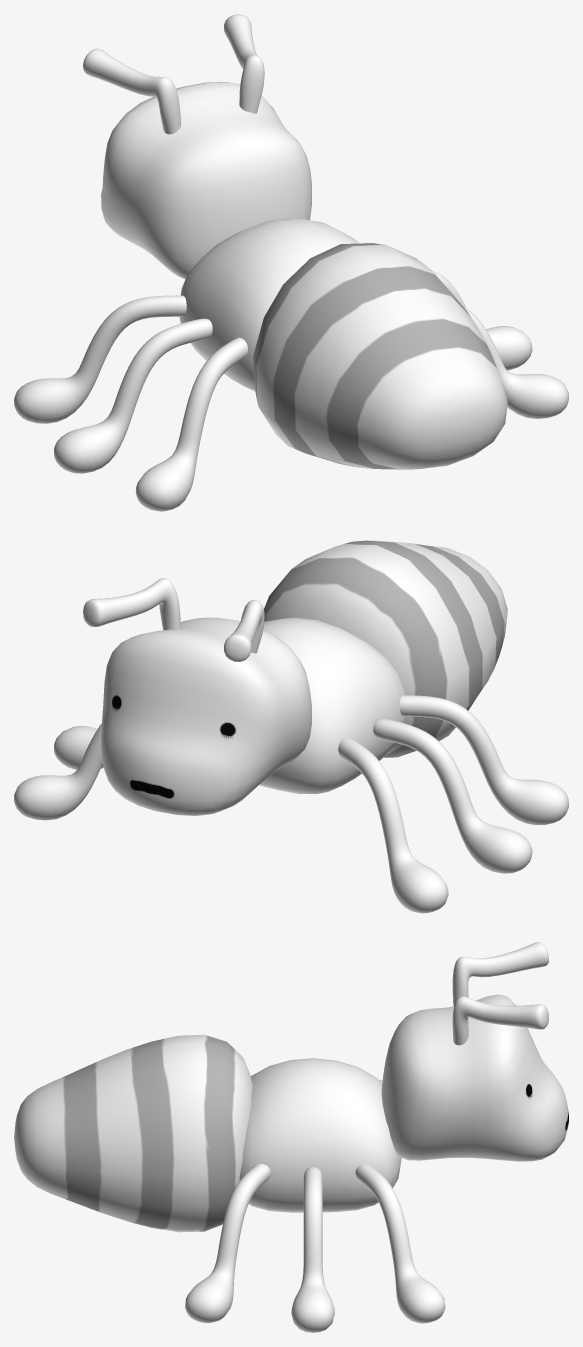
Rendered from ant.obj.
3 views of the same model, one above another, from view 1: azimuth 30°, elevation 25°; view 2: azimuth 150°, elevation 25°; view 3: azimuth 270°, elevation 25° (orthographic). The views are drawn at different scales.
Parts seen in each view (by area): view 1: ant; view 2: ant; view 3: ant.
Boxes of the visible parts, <box> form: ant: <box>14,14,568,511</box>; ant: <box>14,540,568,913</box>; ant: <box>14,942,568,1332</box>.
Size of the model in its own units: 1.39 by 0.8292 by 1.58.
Materials: 1 (1 with a texture image).
